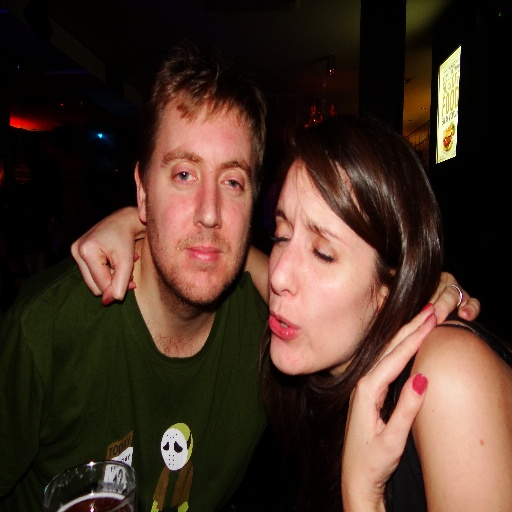hand: (340, 300, 436, 499), (72, 204, 145, 319), (429, 270, 480, 323)
